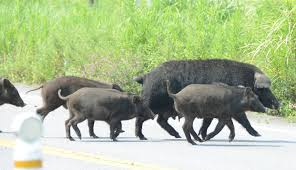boar: (138, 60, 281, 139), (165, 82, 267, 143), (56, 88, 153, 140)
